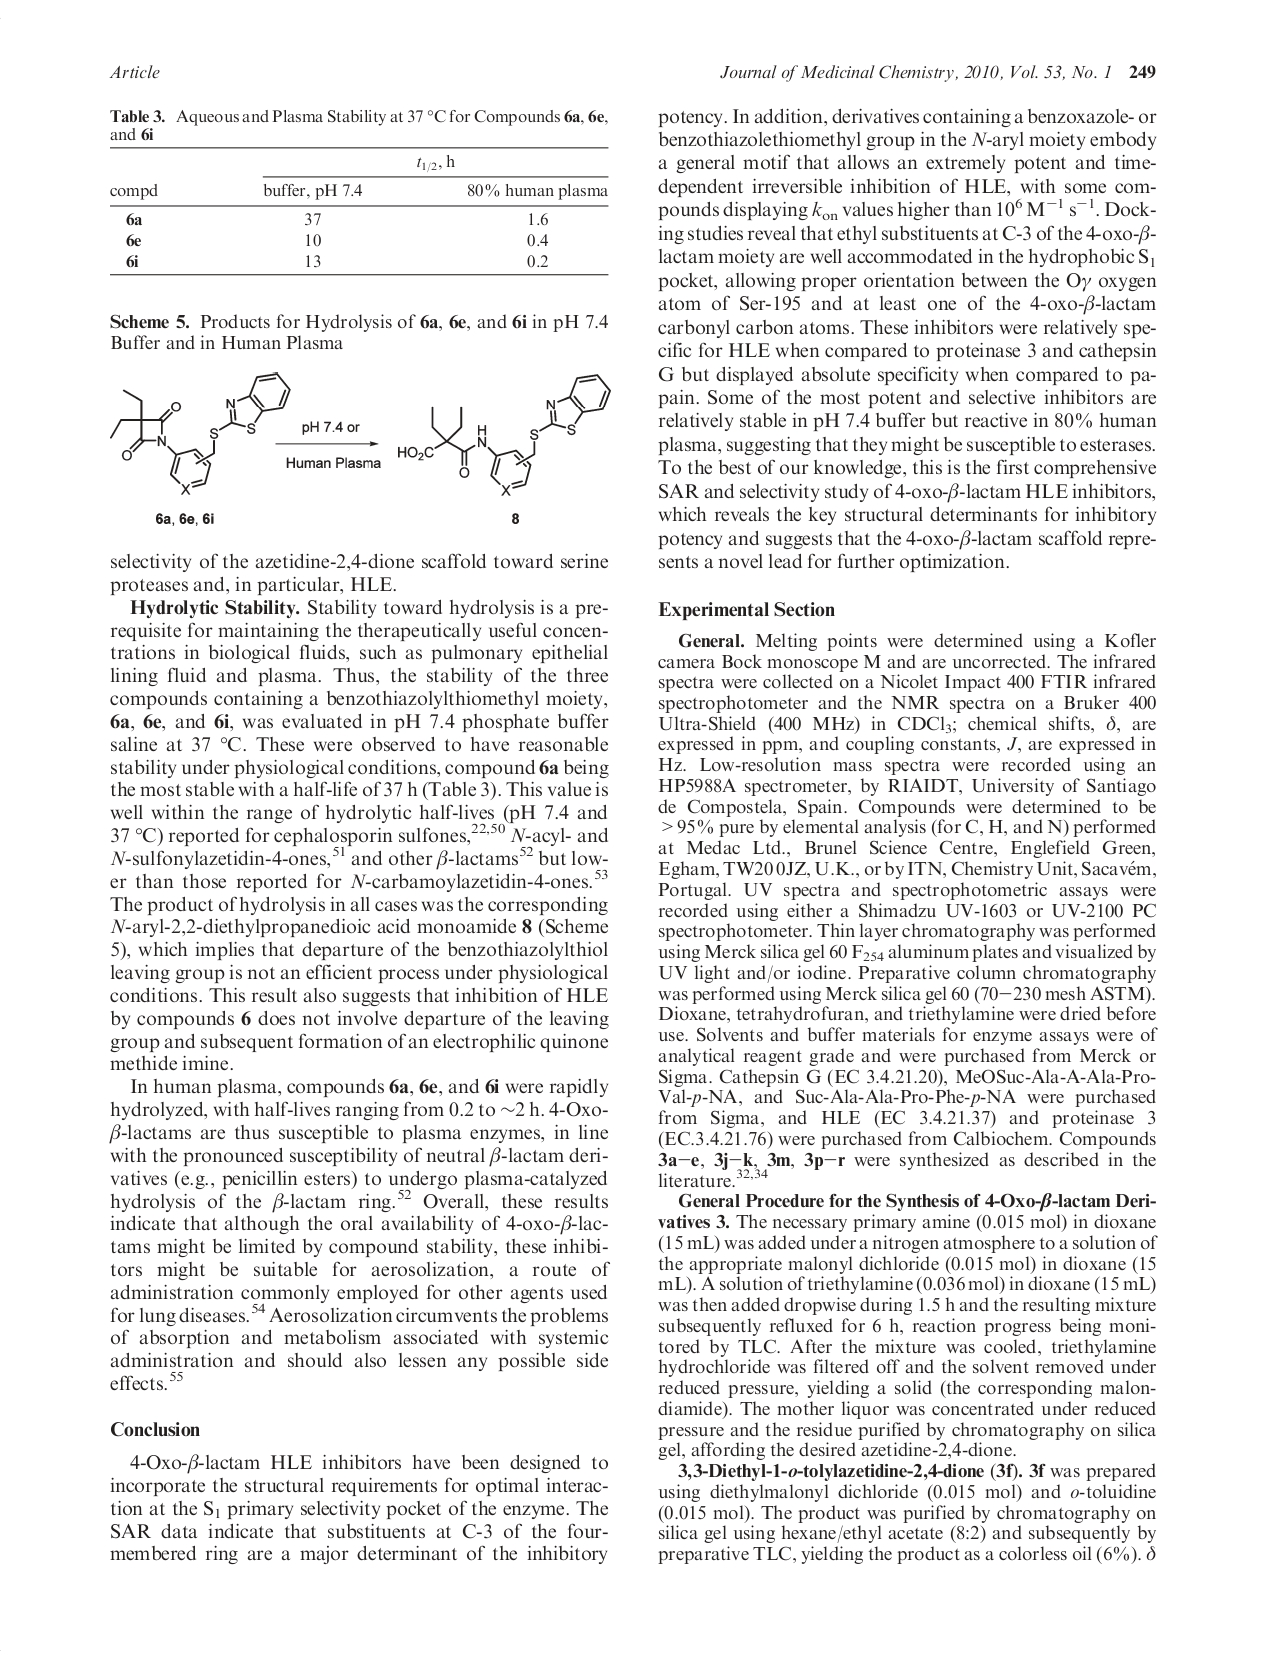exist_molecular: (398, 372, 613, 497), (110, 368, 293, 497)
